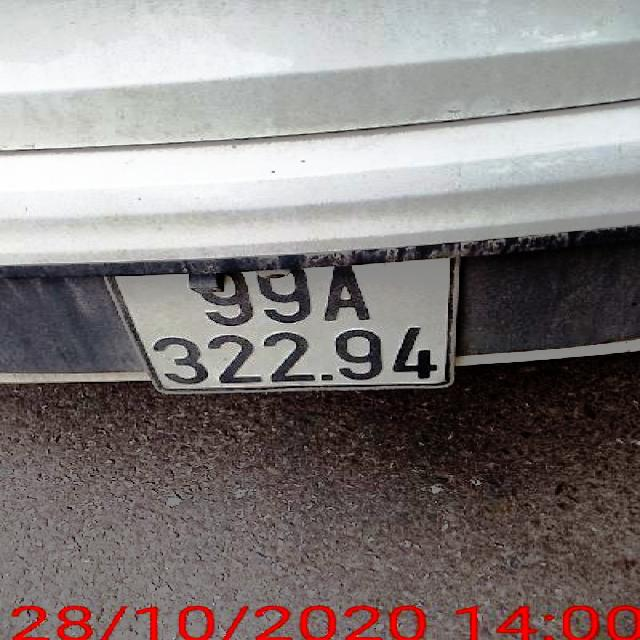license_plate: (103, 258, 457, 396)
